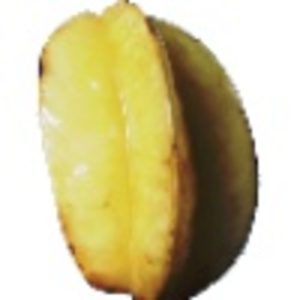carambola: (35, 1, 259, 300)
